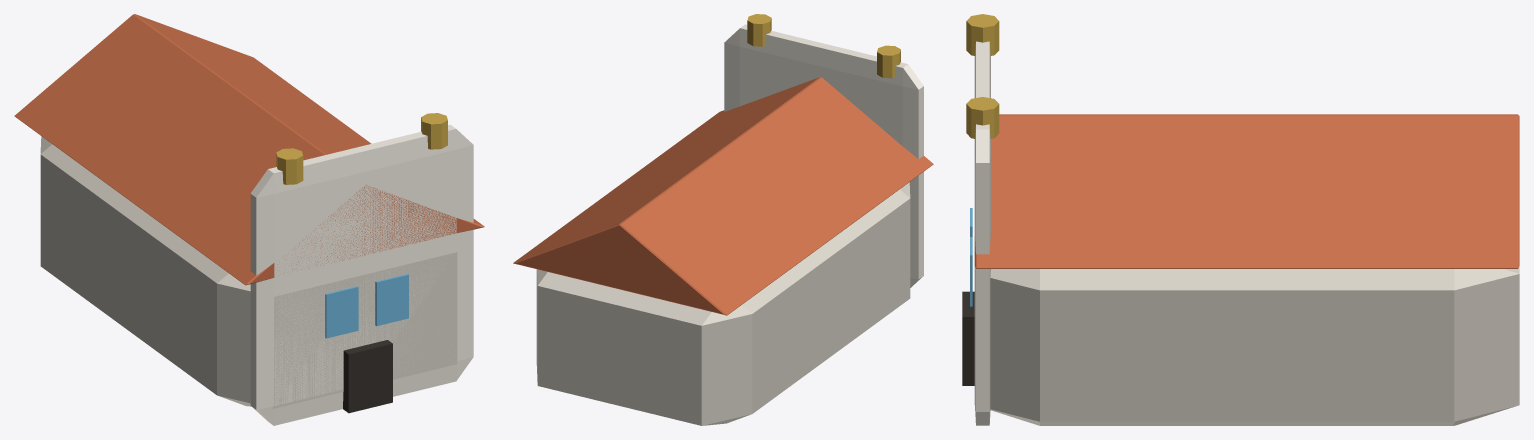
The model's file is church_mission_s.glb.
The picture shows the model from 3 angles, left to right: view 1: azimuth 30°, elevation 25°; view 2: azimuth 150°, elevation 25°; view 3: azimuth 270°, elevation 25°; orthographic projection. The views are drawn at different scales.
Parts seen in each view (by area): view 1: roof, walls, facade, arch, win.001, win, bell, bell.001; view 2: roof, walls, facade, bell.001, bell; view 3: walls, roof, facade, arch, bell.001, bell.
Boxes of the visible parts, x1,y1,x2,y2 form: roof: (14,14,484,285); walls: (40,136,457,408); facade: (250,124,473,425); arch: (343,340,392,413); win.001: (375,274,408,326); win: (325,286,358,338); bell: (276,148,303,184); bell.001: (421,113,447,149); roof: (513,77,933,315); walls: (536,182,910,425); facade: (724,24,923,287); bell.001: (747,14,771,46); bell: (877,45,900,78); walls: (974,266,1519,425); roof: (974,114,1519,268); facade: (974,41,990,425); arch: (962,291,974,385); bell.001: (966,97,999,138); bell: (966,14,999,55).
Bounding box in the file's own units: 12 × 12.6 × 20.45.
